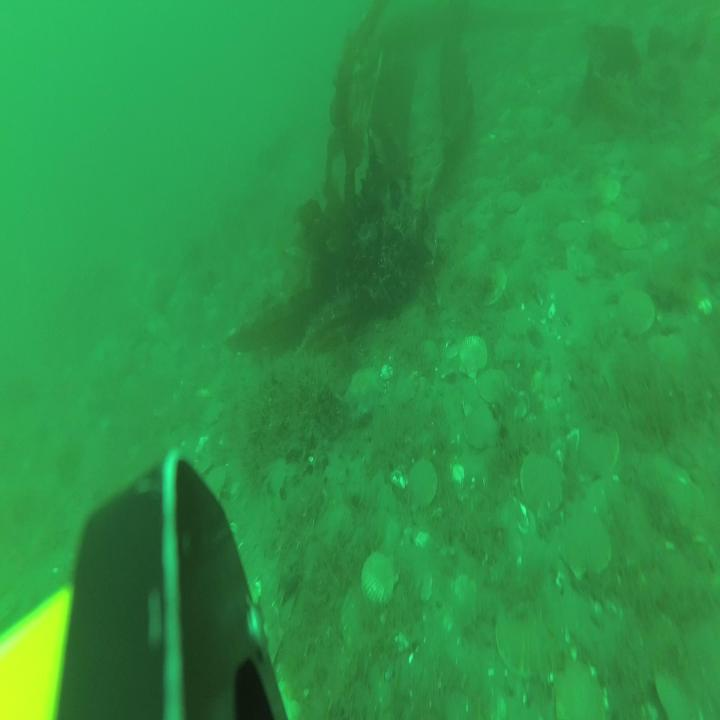scallop: (496, 599, 552, 676), (558, 511, 608, 590), (555, 658, 611, 720), (574, 419, 621, 489), (521, 452, 560, 518), (359, 548, 397, 608), (621, 289, 656, 345), (464, 405, 498, 450), (409, 458, 435, 513), (613, 217, 644, 258), (462, 336, 487, 382), (478, 365, 504, 407), (597, 172, 622, 212), (500, 184, 524, 216), (202, 401, 223, 428)
starfish: (345, 367, 383, 415)
